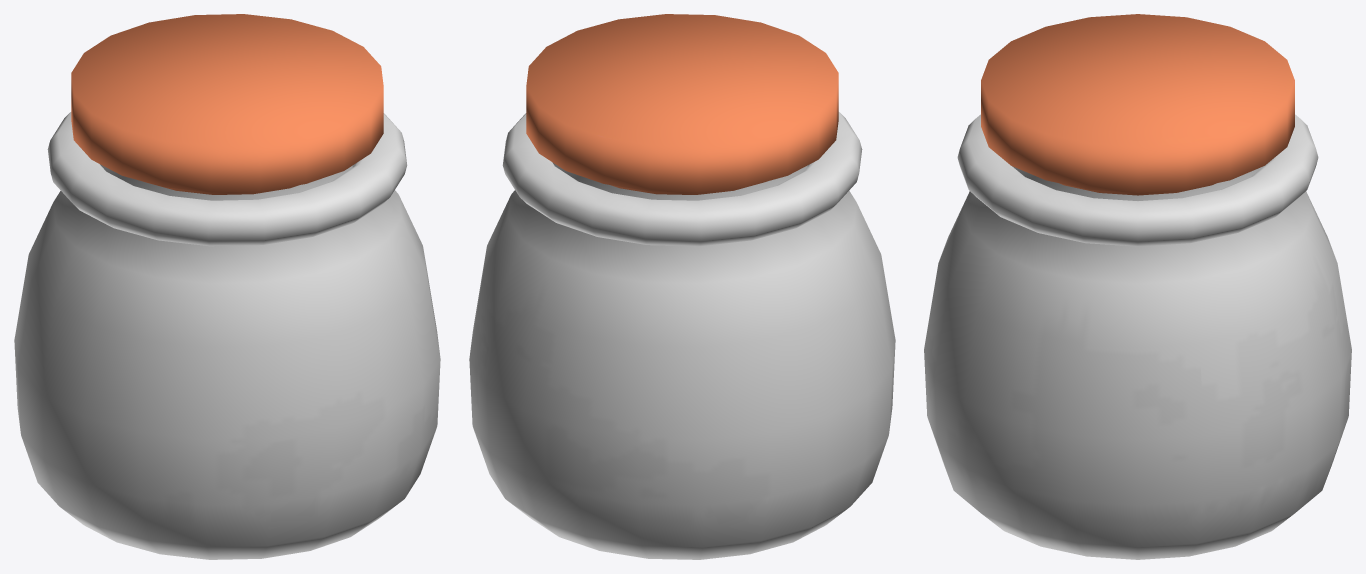
The model's file is pi_glasspot11_marmalade.gltf.
3 views of the same model, side by side, from view 1: azimuth 30°, elevation 25°; view 2: azimuth 150°, elevation 25°; view 3: azimuth 270°, elevation 25° (orthographic).
Parts seen in each view (by area): view 1: pi_glasspot11_outside01_mesh_shape__duprename_b6d7236x:pi_gl, pi_glasspot11_lid01_mesh_shape:pi_glasspot11_body, pi_glasspot11_inside01_mesh_shape__duprename_811be3bx:pi_gla; view 2: pi_glasspot11_outside01_mesh_shape__duprename_b6d7236x:pi_gl, pi_glasspot11_lid01_mesh_shape:pi_glasspot11_body, pi_glasspot11_inside01_mesh_shape__duprename_811be3bx:pi_gla; view 3: pi_glasspot11_outside01_mesh_shape__duprename_b6d7236x:pi_gl, pi_glasspot11_lid01_mesh_shape:pi_glasspot11_body, pi_glasspot11_inside01_mesh_shape__duprename_811be3bx:pi_gla.
Boxes of the visible parts, x1,y1,x2,y2 form: pi_glasspot11_outside01_mesh_shape__duprename_b6d7236x:pi_gl: (14, 112, 440, 559); pi_glasspot11_lid01_mesh_shape:pi_glasspot11_body: (71, 14, 383, 194); pi_glasspot11_inside01_mesh_shape__duprename_811be3bx:pi_gla: (102, 165, 352, 200); pi_glasspot11_outside01_mesh_shape__duprename_b6d7236x:pi_gl: (469, 112, 895, 559); pi_glasspot11_lid01_mesh_shape:pi_glasspot11_body: (526, 14, 838, 194); pi_glasspot11_inside01_mesh_shape__duprename_811be3bx:pi_gla: (557, 165, 807, 200); pi_glasspot11_outside01_mesh_shape__duprename_b6d7236x:pi_gl: (924, 114, 1351, 559); pi_glasspot11_lid01_mesh_shape:pi_glasspot11_body: (981, 14, 1294, 195); pi_glasspot11_inside01_mesh_shape__duprename_811be3bx:pi_gla: (1012, 166, 1263, 200).
Size of the model in its own units: 0.0943 by 0.0997 by 0.0943.
Materials: 4 (4 with a texture image).
